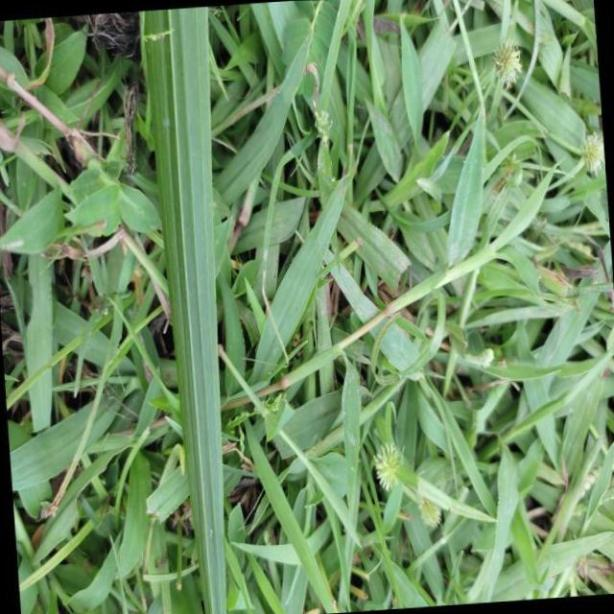Boron: (134, 0, 243, 613)
